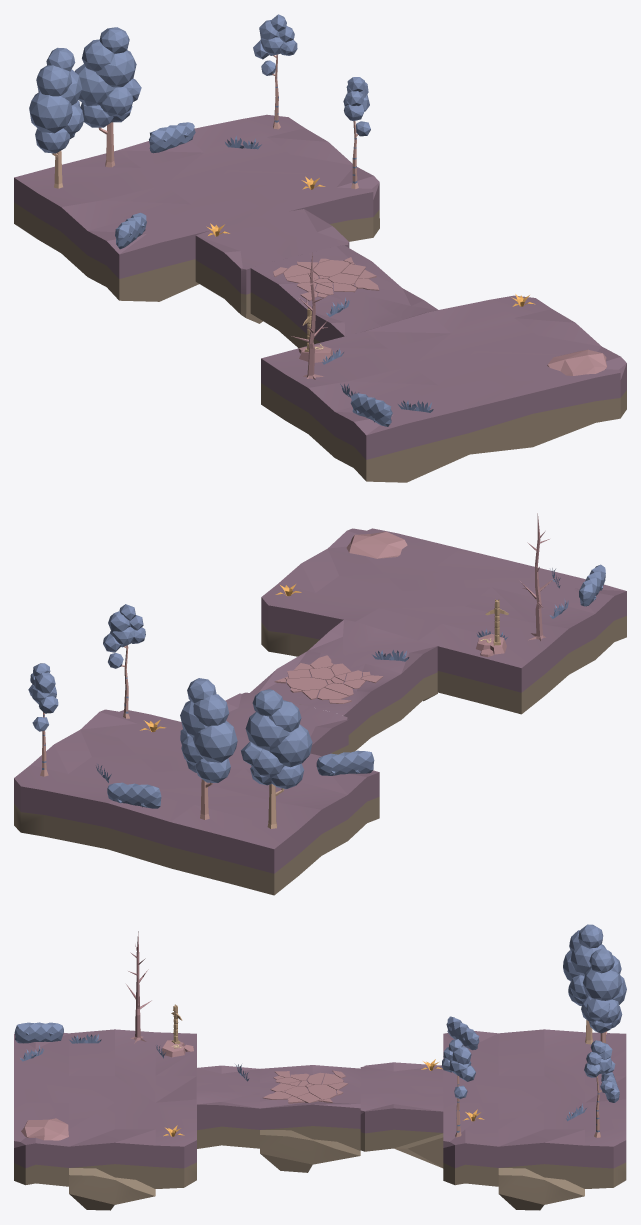
Rendered from Arena_2.fbx.
3 renders of one model, top to bottom at view 1: azimuth 30°, elevation 25°; view 2: azimuth 150°, elevation 25°; view 3: azimuth 270°, elevation 25°, orthographic. The views are drawn at different scales.
Parts seen in each view (by area): view 1: world_field__4_.006, world_field__4_.008, world_field__4_.007, tree_oak__2_.003, tree_oak__2_.001, ground_cracked__1_.001, tree_birch_tall__1_.003, tree_birch_tall__1_.002, stone_round__13_.005, fence_vineyard.004, fence_vineyard.003, tree_dry.004 (+1 smaller); view 2: world_field__4_.008, world_field__4_.006, world_field__4_.007, tree_oak__2_.001, tree_oak__2_.003, ground_cracked__1_.001, tree_birch_tall__1_.002, tree_birch_tall__1_.003, stone_round__13_.005, fence_vineyard.005, fence_vineyard.004, tree_dry.004 (+1 smaller); view 3: world_field__4_.006, world_field__4_.008, world_field__4_.007, tree_oak__2_.003, ground_cracked__1_.001, tree_oak__2_.001, tree_birch_tall__1_.002, tree_birch_tall__1_.003, fence_vineyard.003, stone_round__13_.005, fence_vineyard.005, tree_dry.004.
Boxes of the visible parts, <box> form: world_field__4_.006: <box>261,295,626,482</box>; world_field__4_.008: <box>14,114,379,301</box>; world_field__4_.007: <box>195,209,438,348</box>; tree_oak__2_.003: <box>75,27,141,167</box>; tree_oak__2_.001: <box>29,47,83,188</box>; ground_cracked__1_.001: <box>273,257,379,301</box>; tree_birch_tall__1_.003: <box>253,14,297,129</box>; tree_birch_tall__1_.002: <box>343,77,370,189</box>; stone_round__13_.005: <box>547,349,606,375</box>; fence_vineyard.004: <box>149,122,195,153</box>; fence_vineyard.003: <box>350,393,392,426</box>; tree_dry.004: <box>291,253,327,379</box>; world_field__4_.008: <box>14,709,379,895</box>; world_field__4_.006: <box>261,528,626,714</box>; world_field__4_.007: <box>225,619,437,756</box>; tree_oak__2_.001: <box>241,689,312,828</box>; tree_oak__2_.003: <box>180,678,237,819</box>; ground_cracked__1_.001: <box>274,655,383,703</box>; tree_birch_tall__1_.002: <box>103,604,145,718</box>; tree_birch_tall__1_.003: <box>28,663,58,776</box>; stone_round__13_.005: <box>346,531,407,558</box>; fence_vineyard.005: <box>316,750,374,775</box>; fence_vineyard.004: <box>107,782,161,808</box>; tree_dry.004: <box>520,513,556,640</box>; world_field__4_.006: <box>14,1029,196,1210</box>; world_field__4_.008: <box>443,1029,626,1210</box>; world_field__4_.007: <box>196,1062,443,1172</box>; tree_oak__2_.003: <box>581,948,626,1043</box>; ground_cracked__1_.001: <box>263,1070,348,1103</box>; tree_oak__2_.001: <box>563,924,606,1044</box>; tree_birch_tall__1_.002: <box>441,1039,475,1137</box>; tree_birch_tall__1_.003: <box>584,1040,615,1137</box>; fence_vineyard.003: <box>14,1022,63,1043</box>; stone_round__13_.005: <box>21,1118,68,1140</box>; fence_vineyard.005: <box>446,1016,479,1050</box>; tree_dry.004: <box>126,931,151,1043</box>.
Size of the model in its own units: 5312 by 3788 by 11419.
